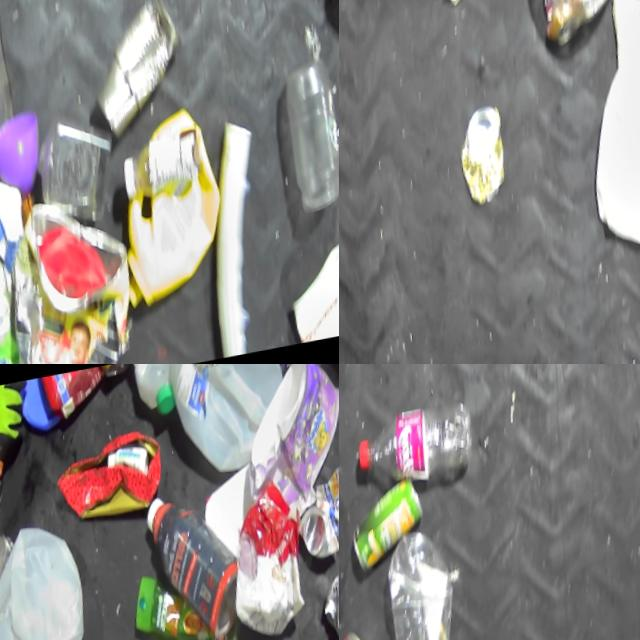can: (90, 0, 195, 130), (351, 481, 440, 573), (459, 95, 526, 209), (311, 462, 339, 540), (323, 571, 339, 640)
milk_jug: (580, 30, 640, 243), (0, 520, 101, 640)
non_white_jug: (119, 108, 248, 299)
plastic_bottle: (357, 395, 482, 499), (383, 525, 485, 640)
